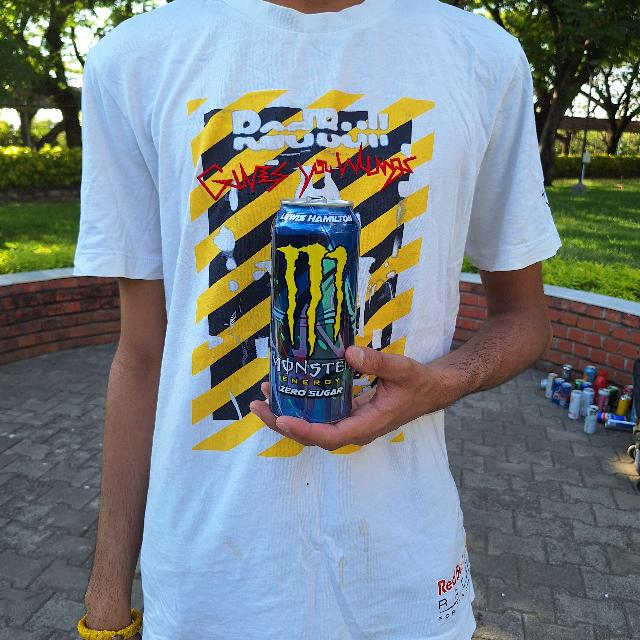Monster LH44: (263, 196, 361, 422)
